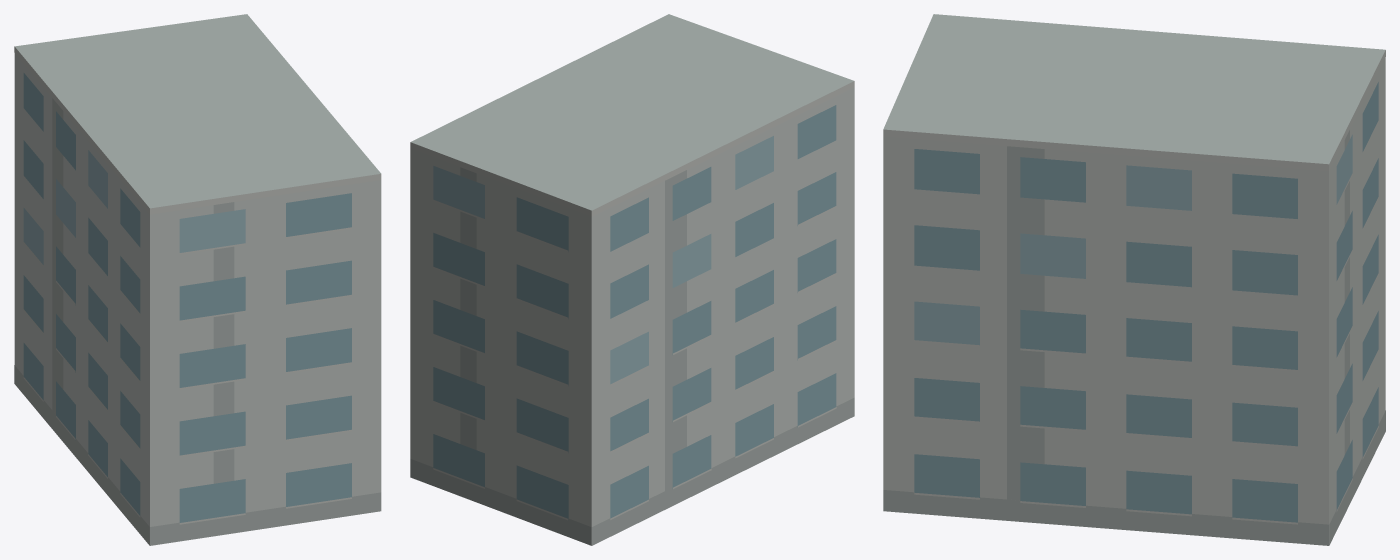
Rendered from survey-upis-32885327.glb.
3 views of the same model, side by side, from view 1: azimuth 30°, elevation 25°; view 2: azimuth 150°, elevation 25°; view 3: azimuth 270°, elevation 25° (orthographic). The views are drawn at different scales.
Visible parts, largest first — view 1: survey-upis-32885327.tmp; view 2: survey-upis-32885327.tmp; view 3: survey-upis-32885327.tmp.
Boxes of the visible parts, x1,y1,x2,y2 form: survey-upis-32885327.tmp: [14, 14, 381, 545]; survey-upis-32885327.tmp: [410, 14, 854, 545]; survey-upis-32885327.tmp: [883, 14, 1385, 545].
Bounding box in the file's own units: 11.15 × 13.2 × 15.76.
